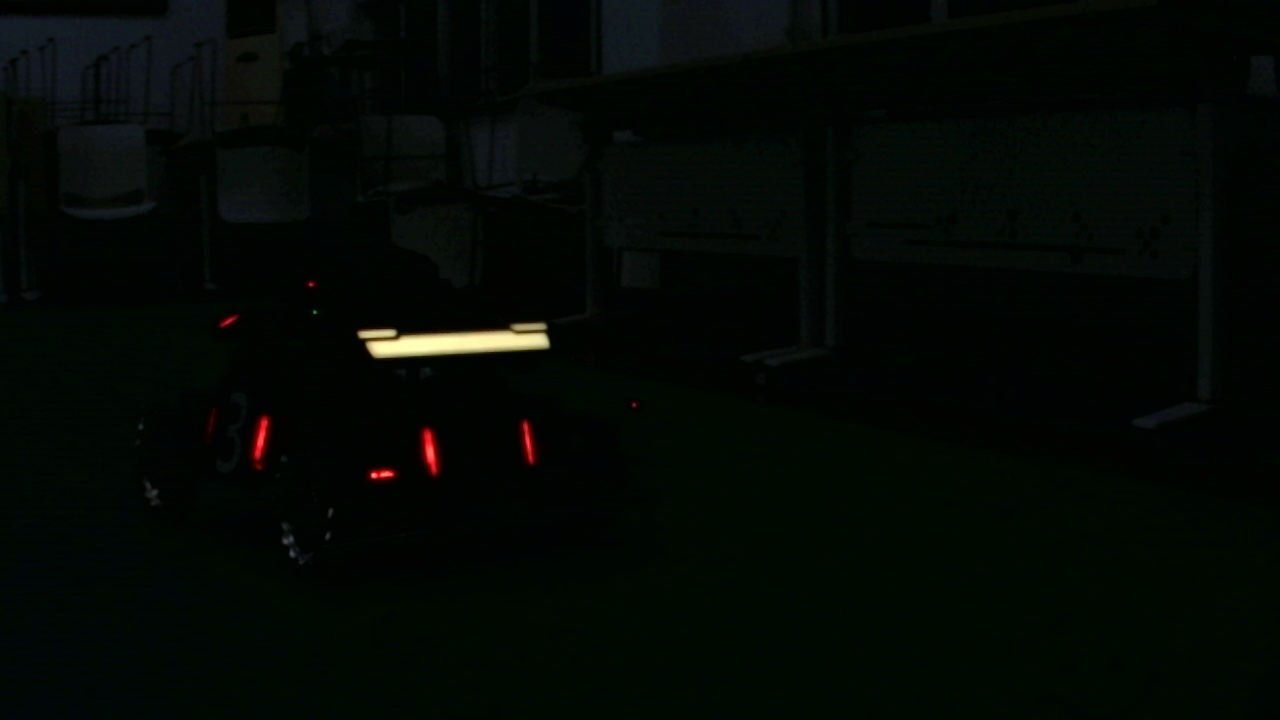lamp: (411, 413, 443, 488), (520, 415, 541, 466), (253, 406, 265, 464)
notpair1: (249, 408, 438, 485)
pair1: (421, 419, 542, 475)
